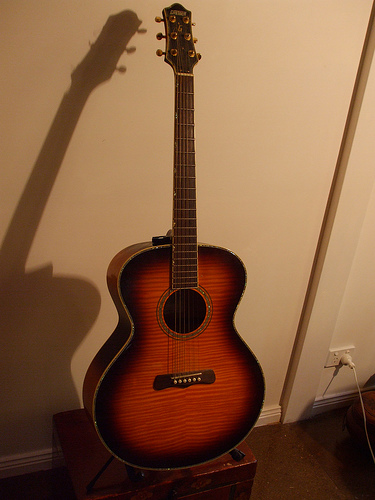guitar: (79, 1, 270, 470)
